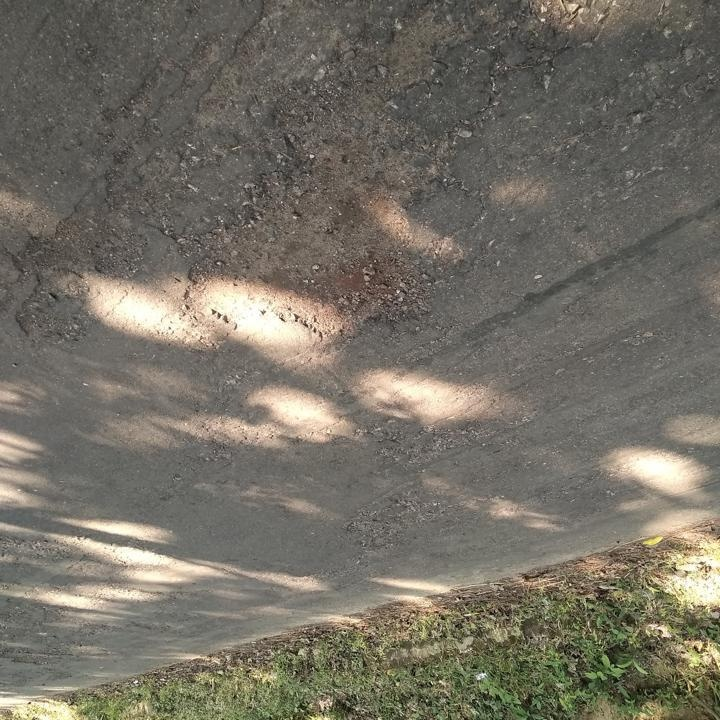pothole: (185, 81, 443, 348)
